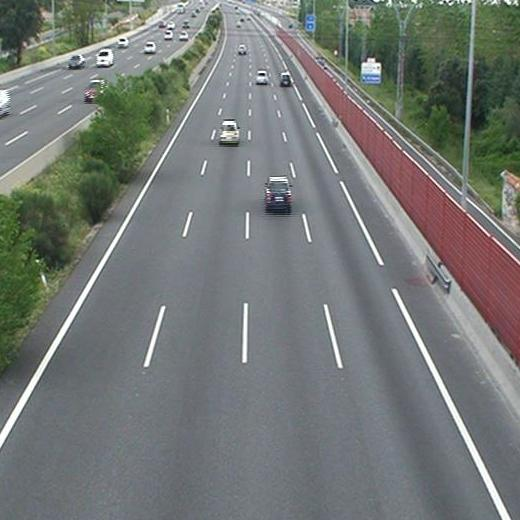car: (265, 177, 291, 209), (219, 121, 239, 142), (256, 70, 269, 84), (280, 74, 291, 86), (237, 45, 247, 54)
